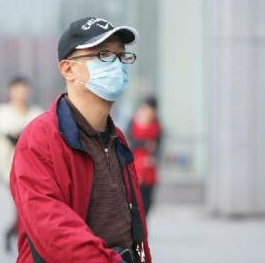person: (8, 15, 160, 263), (124, 94, 165, 218), (1, 75, 52, 145)
